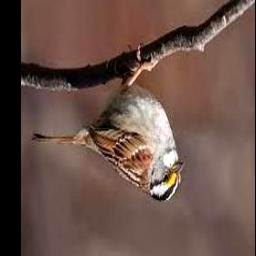Sparrow: (33, 44, 185, 202)
